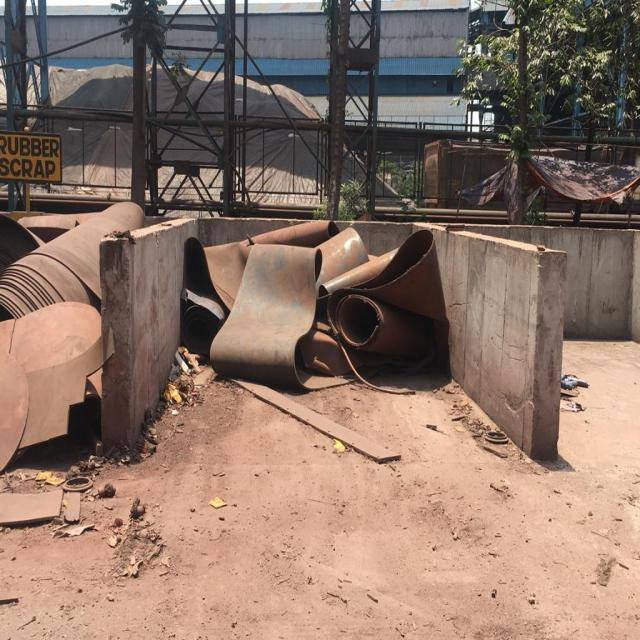dustbins: (104, 213, 562, 468)
